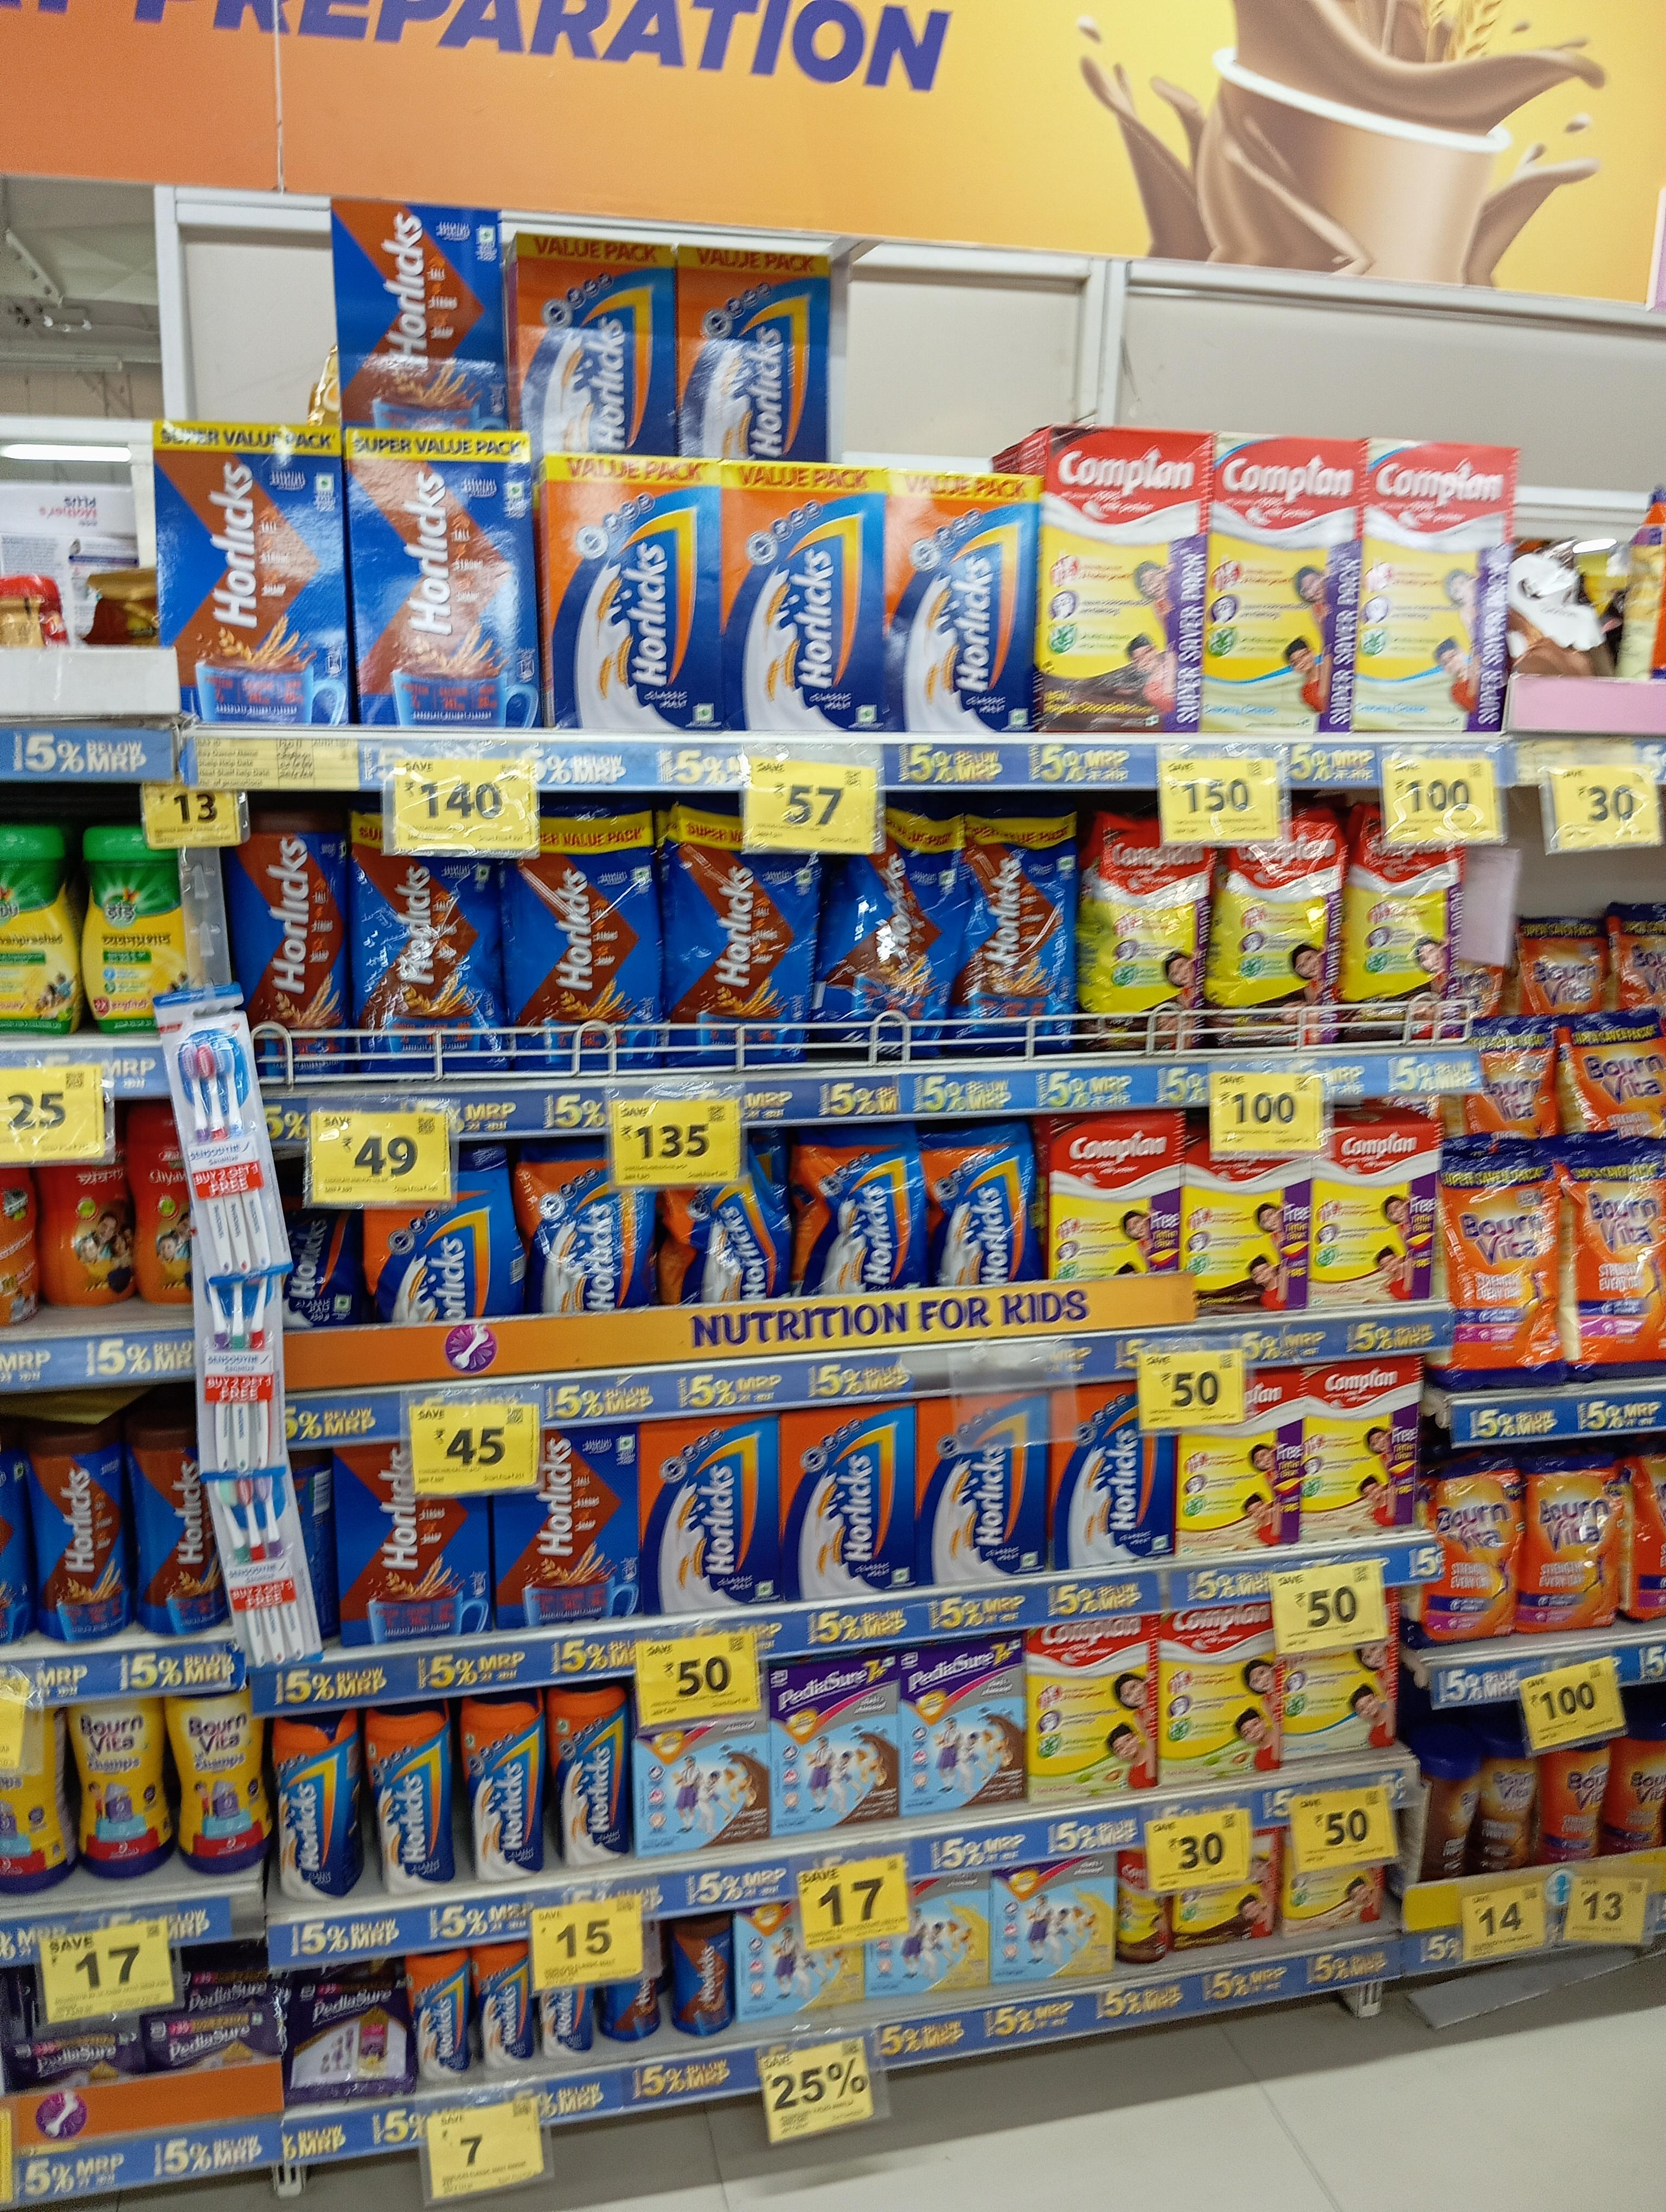COMPLAN_CHOCOLATE_1_KG_PACK: (1045, 421, 1200, 736)
COMPLAN_CHOCOLATE_500_GMS_PACK: (1183, 1154, 1309, 1318)
COMPLAN_KESAR_BADAM_500_GMS_PACK: (1304, 1355, 1421, 1530), (1178, 1429, 1299, 1546)
COMPLAN_PISTA_BADAM_500_GMS_PACK: (1026, 1626, 1160, 1794), (1164, 1614, 1281, 1778)
COMPLAN_RC_POUCH_700_GMS_12: (1085, 831, 1206, 1049), (1216, 845, 1340, 1044), (1348, 850, 1463, 1042)
HORLICK_CHOCOLATE_200_G_JAR: (670, 1918, 731, 2042)
